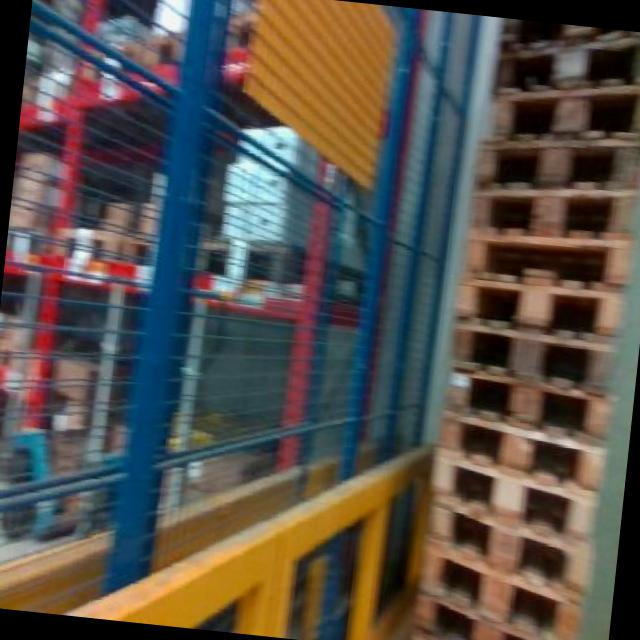pallet: (400, 13, 640, 640)
